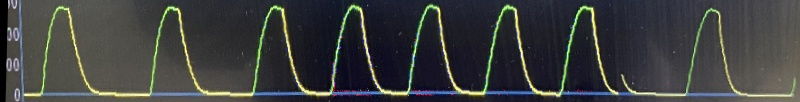normal_volume: (25, 0, 771, 102)
